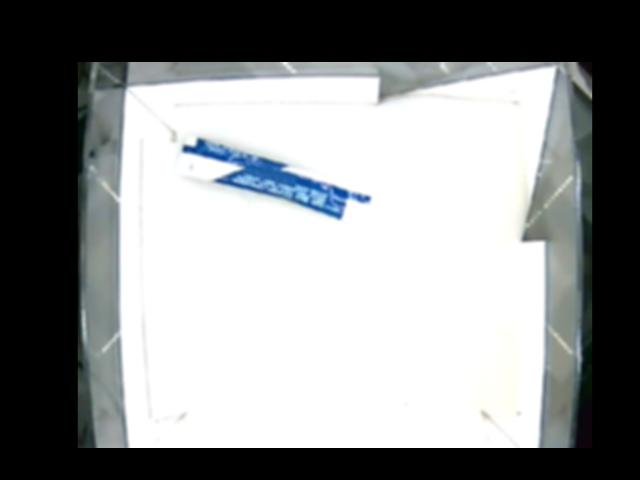Medicine: (173, 133, 373, 226)
